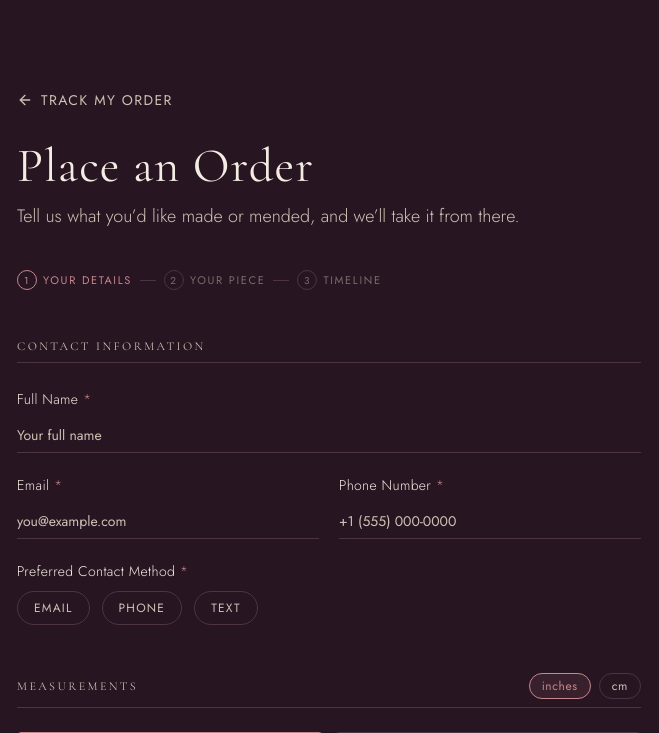
Test case: OrderForm confirmation screen › offers both the fitting and the consultation when measurements are taken at an appointment
Type "Ada Lovelace" into the field with id "fullName" at (329,435), box [17,417,641,453]
Type "ada@example.com" into the field with id "email" at (168,521), box [17,503,319,539]
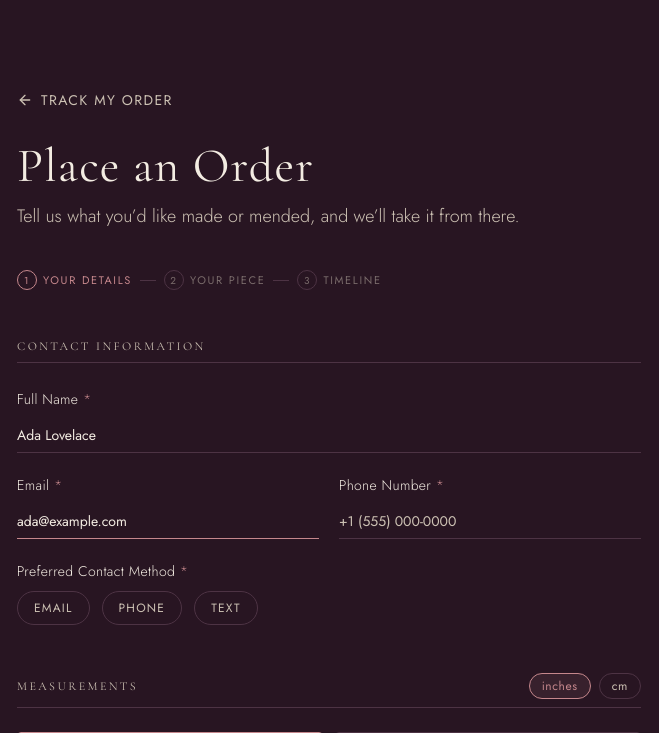
Type "+1 555 000 1234" into the field labelled "Phone Number *" at (490,521), box [339,503,641,539]
Click the button "Email" at (53,608), box [17,591,90,625]
(page scrolled)
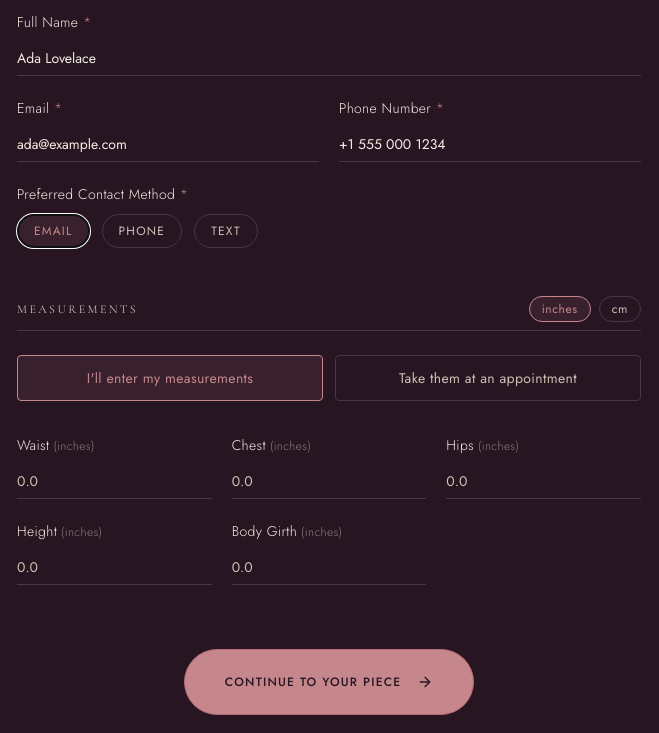
Click the button "Take them at an appointment" at (488,378), box [335,355,641,401]
(page scrolled)
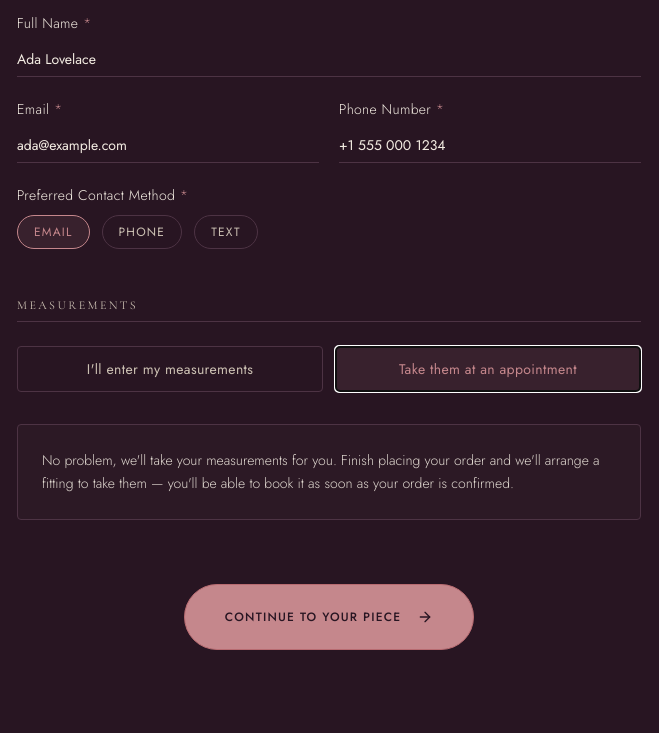
Click the button "Continue to your piece" at (329,616), box [184,584,474,650]
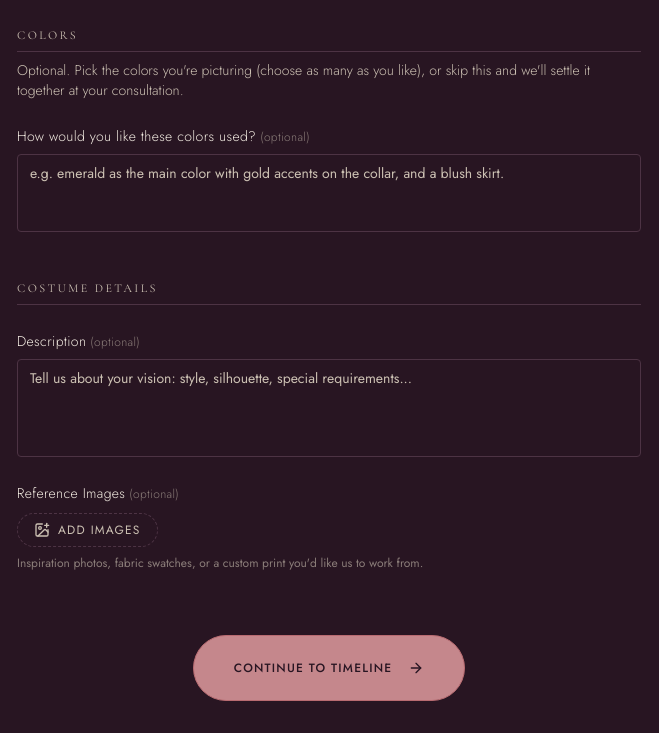
Click the button "Continue to timeline" at (329,668), box [193,635,465,701]
(page scrolled)
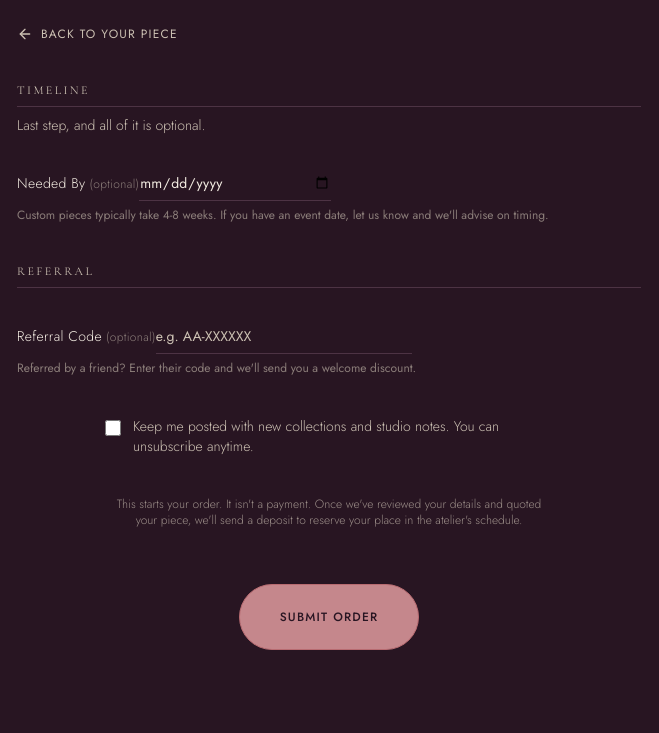
Expected: the button "Submit Order" is shown
Click the button "Submit Order" at (329,617), box [239,584,419,650]
(page scrolled)
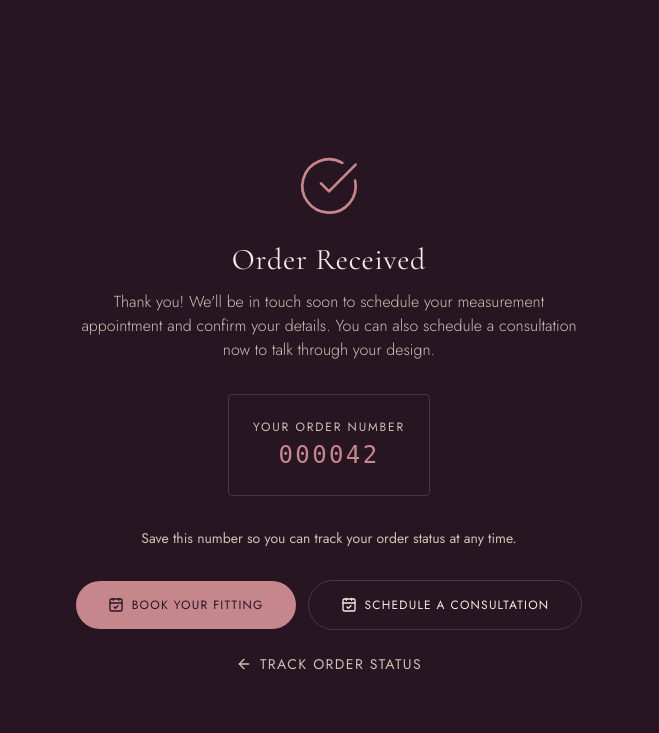
Expected: the text "000042" is shown, [278,441,380,469]
